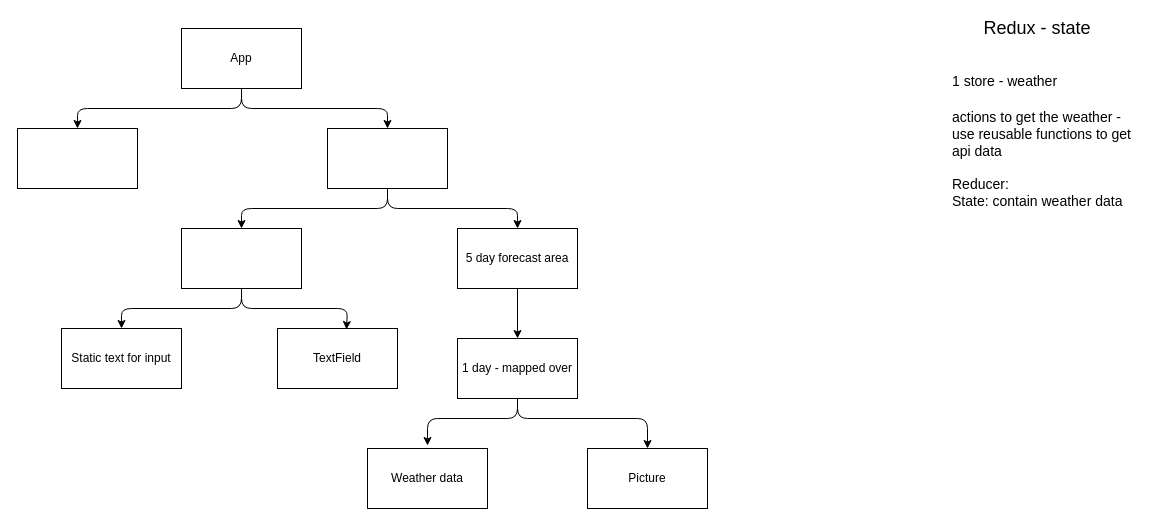
The diagram is 1155 pixels wide and 526 high, and some of its shapes have lost their labels. The shapes that lost their labels are listed below. From the top down, each one's box as (x1, y1, x2, y2) in pixels, then its label:
(16, 128, 138, 188): Appnavbar
(326, 128, 448, 188): Main App container - grid
(180, 228, 302, 288): Input area
